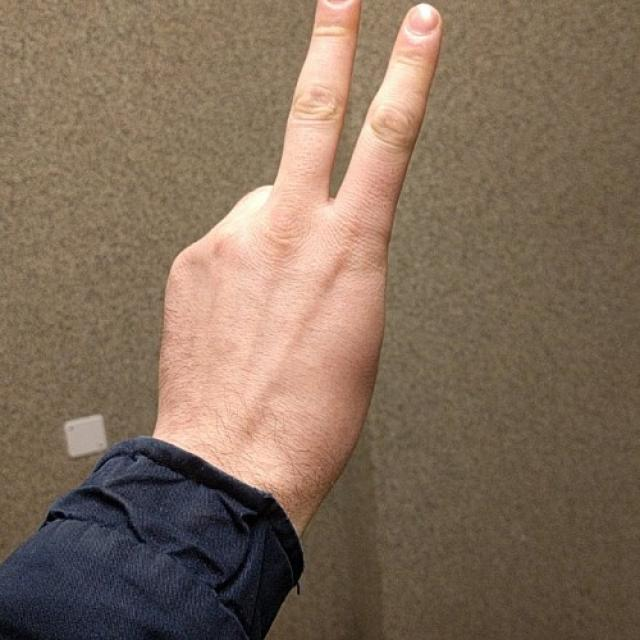scissors: (162, 0, 446, 448)
